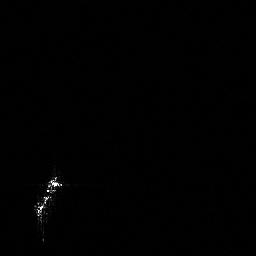ship: (29, 173, 65, 232)
